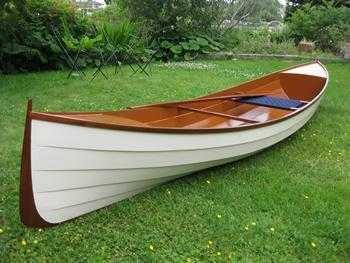kayak: (16, 60, 330, 227)
